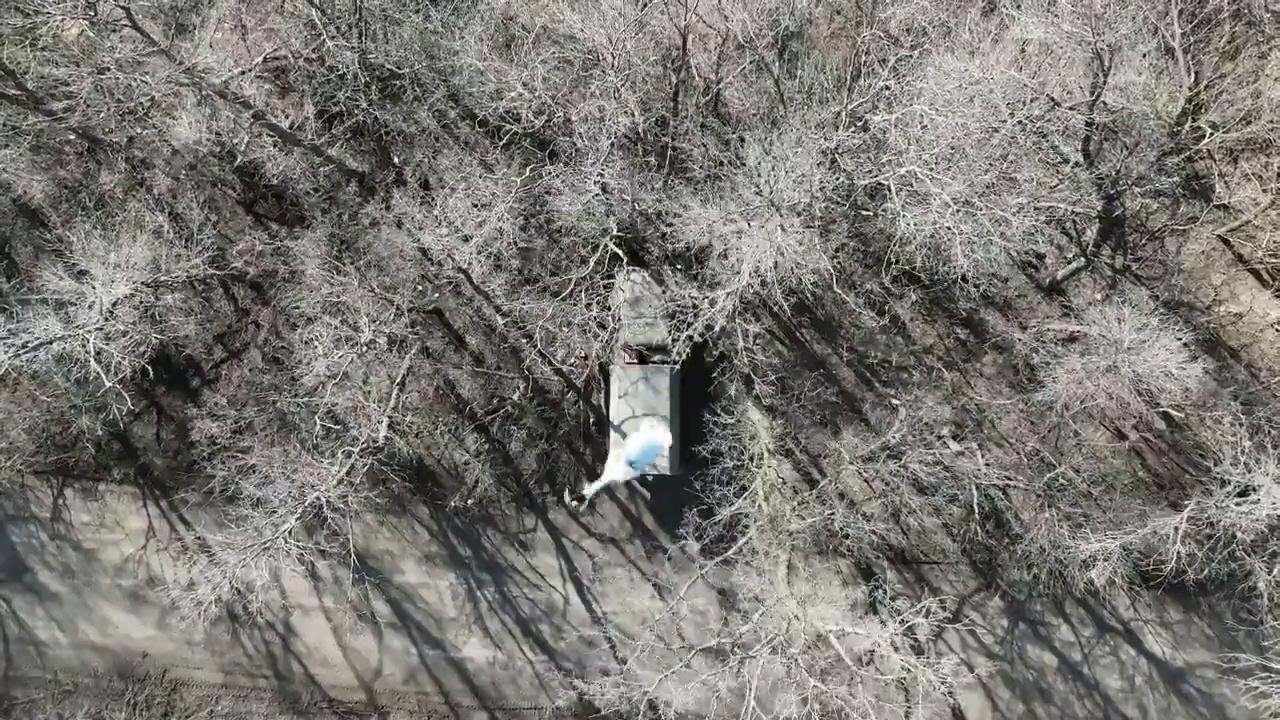vehicle: (606, 267, 680, 475)
